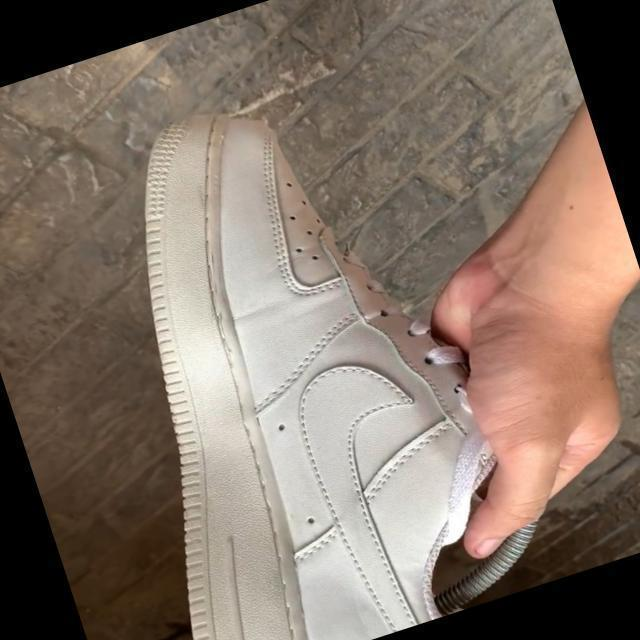nike fake air force: (17, 39, 583, 640)
